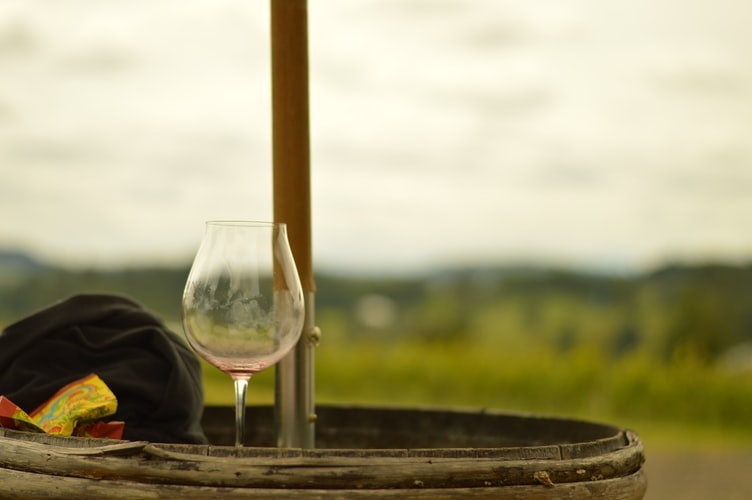whiskey: (185, 215, 303, 448)
